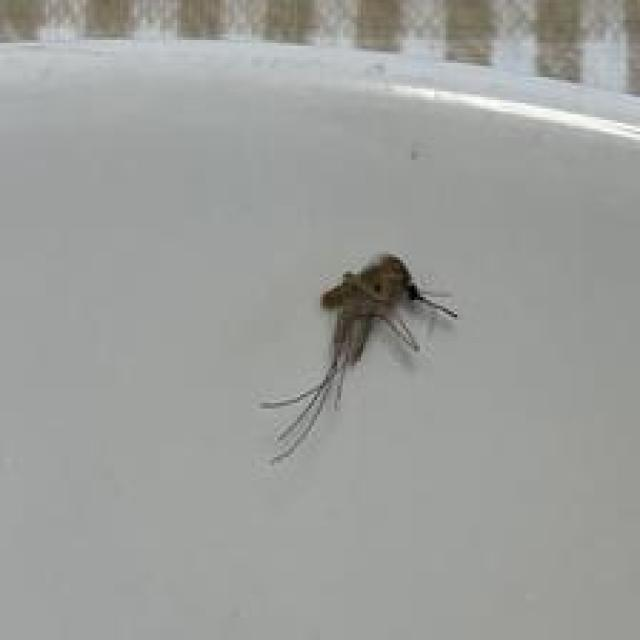Culex: (258, 250, 458, 467)
